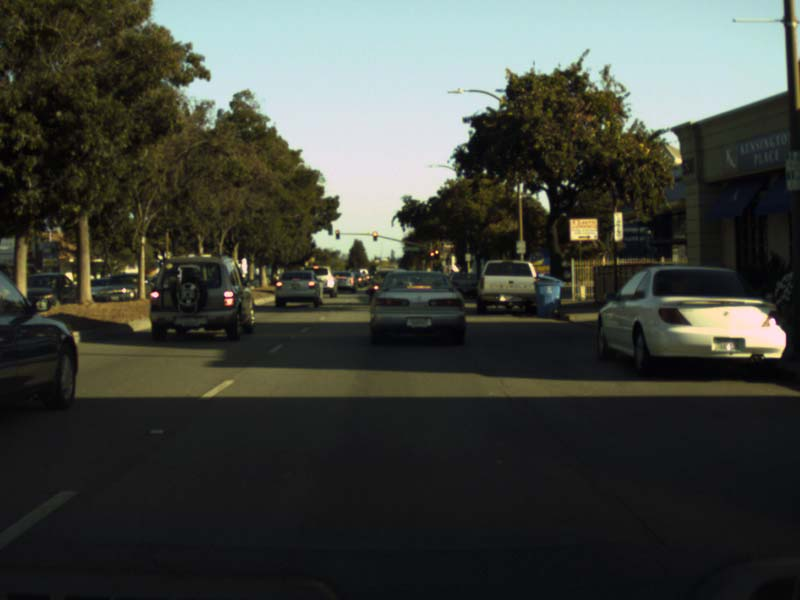Red: (372, 231, 377, 241), (335, 229, 340, 238)
Yellow: (430, 251, 434, 258)
